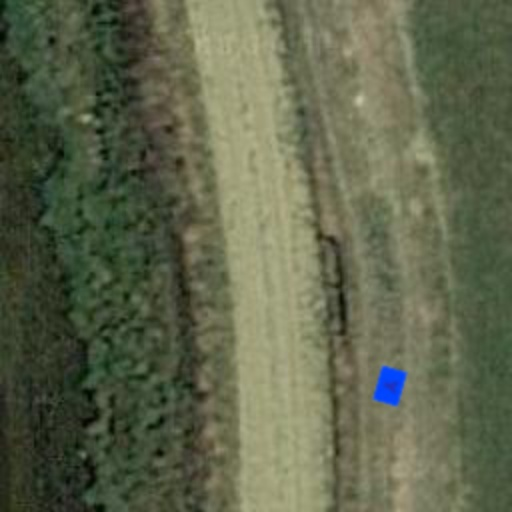rectangle: (366, 362, 414, 410)
